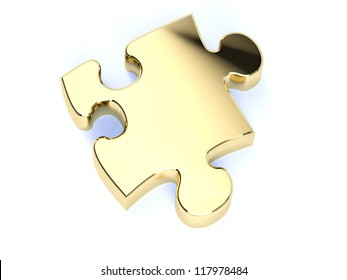puzzle piece: (39, 5, 300, 236)
